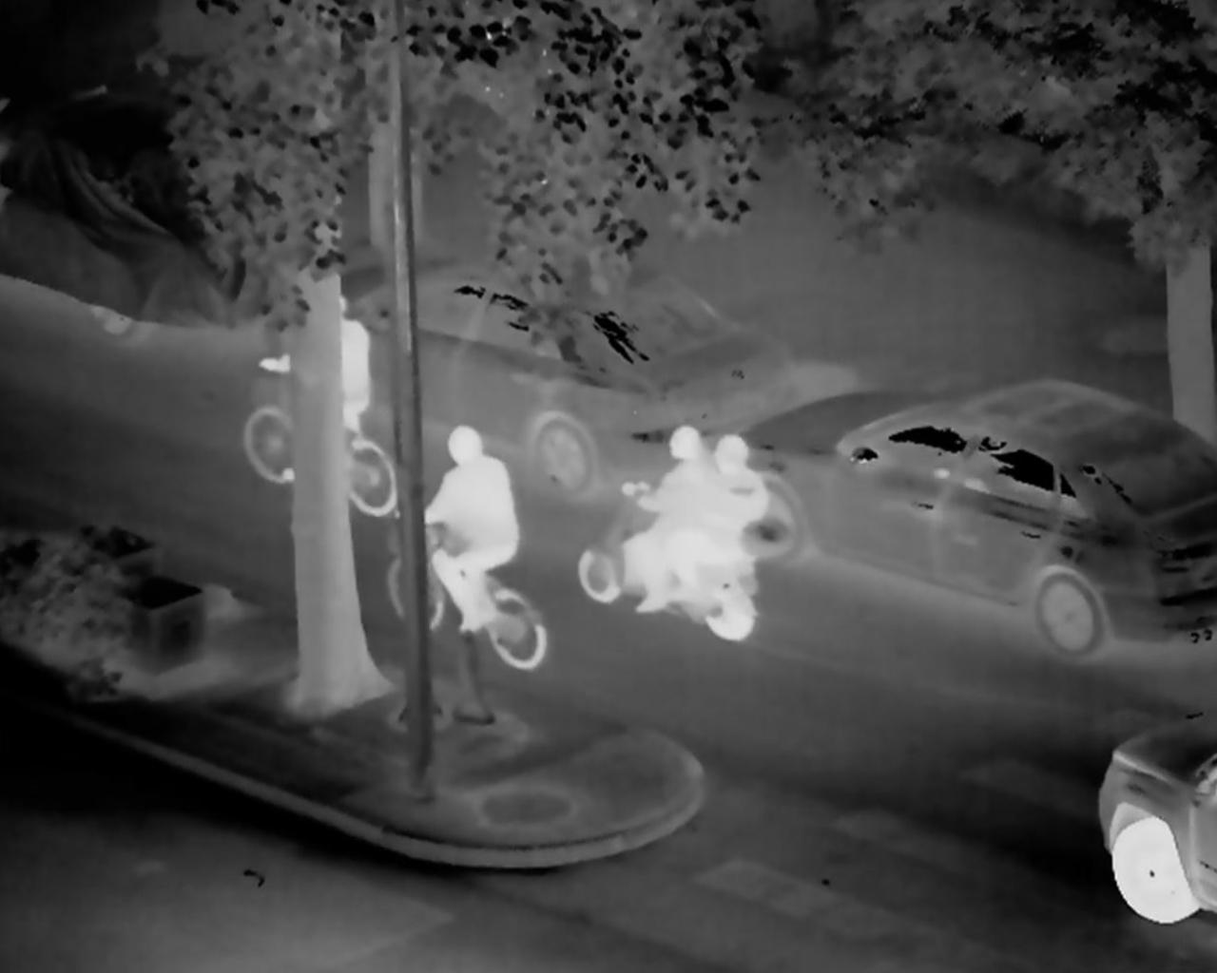person: (424, 426, 521, 644), (261, 282, 376, 438), (627, 424, 711, 621), (716, 431, 768, 597)
